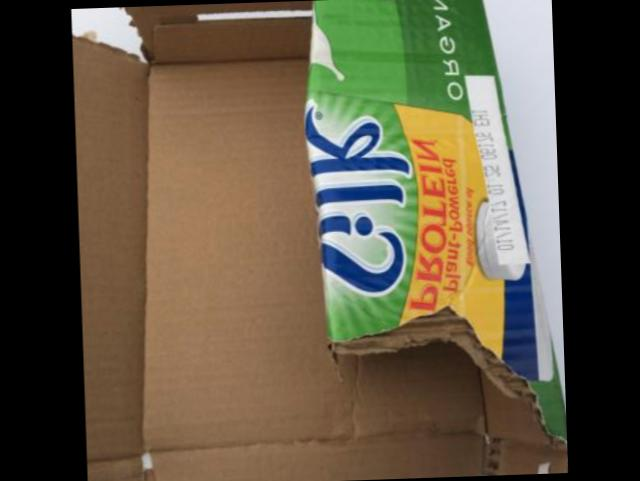cardboard paper: (72, 0, 568, 481)
